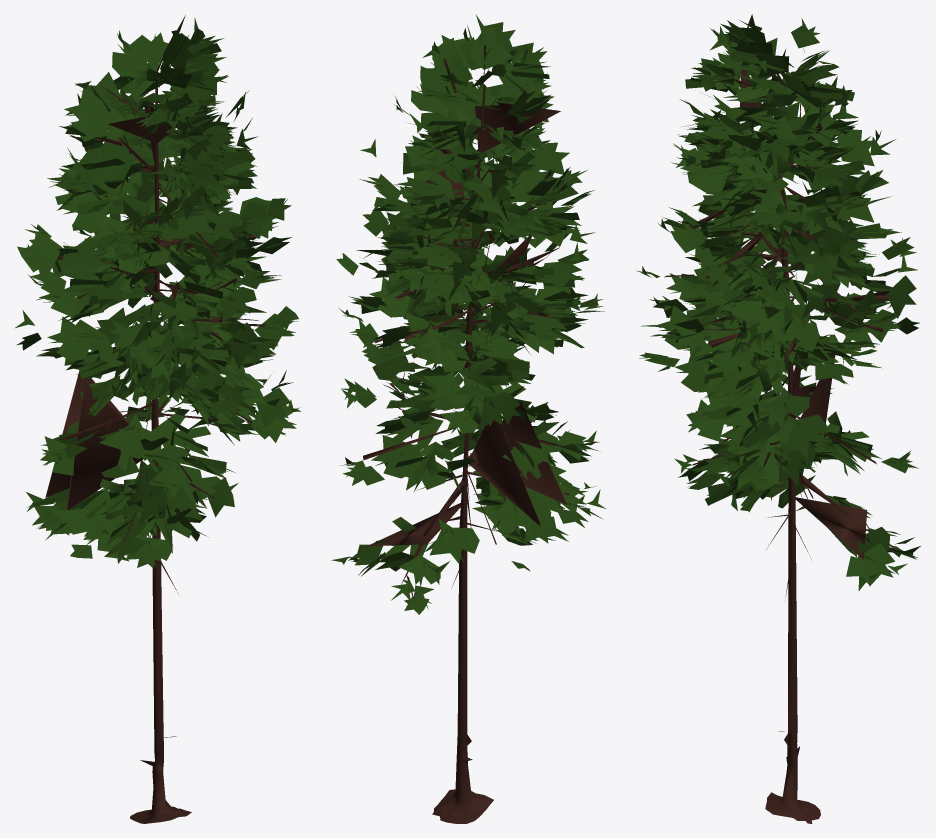
File: fir_a_horizon.obj
The picture shows the model from 3 angles, left to right: view 1: azimuth 30°, elevation 25°; view 2: azimuth 150°, elevation 25°; view 3: azimuth 270°, elevation 25°; orthographic projection. The views are drawn at different scales.
Visible parts, largest first — view 1: fir_a_lod1; view 2: fir_a_lod1; view 3: fir_a_lod1.
Boxes of the visible parts, box(x1,y1,x2,y2) form: fir_a_lod1: box(15, 15, 300, 823); fir_a_lod1: box(331, 15, 605, 823); fir_a_lod1: box(636, 14, 920, 823).
Size of the model in its own units: 252 by 747 by 241.
